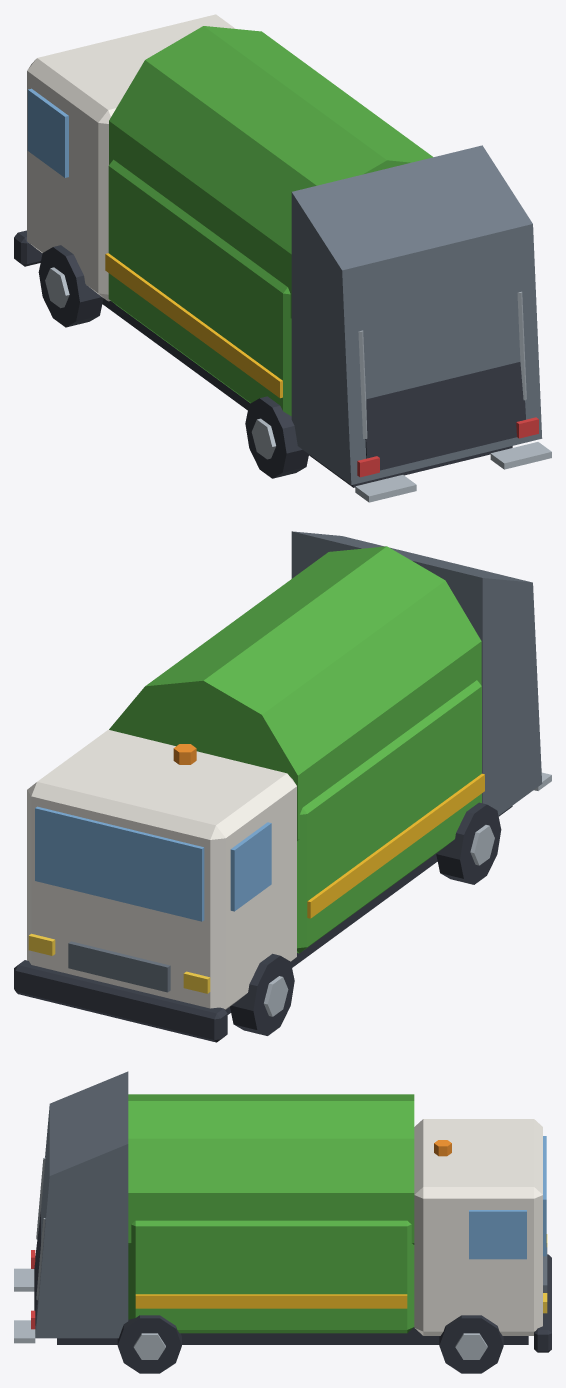
File: caminhao_lixo.glb
3 renders of one model, top to bottom at view 1: azimuth 30°, elevation 25°; view 2: azimuth 150°, elevation 25°; view 3: azimuth 270°, elevation 25°, orthographic. The views are drawn at different scales.
Visible parts, largest first — view 1: corpo; view 2: corpo; view 3: corpo.
Boxes of the visible parts, box(x1,y1,x2,y2) form: corpo: box(14, 14, 551, 502); corpo: box(14, 531, 551, 1042); corpo: box(14, 1071, 551, 1373).
Size of the model in its own units: 0.56 by 0.7156 by 1.5.
